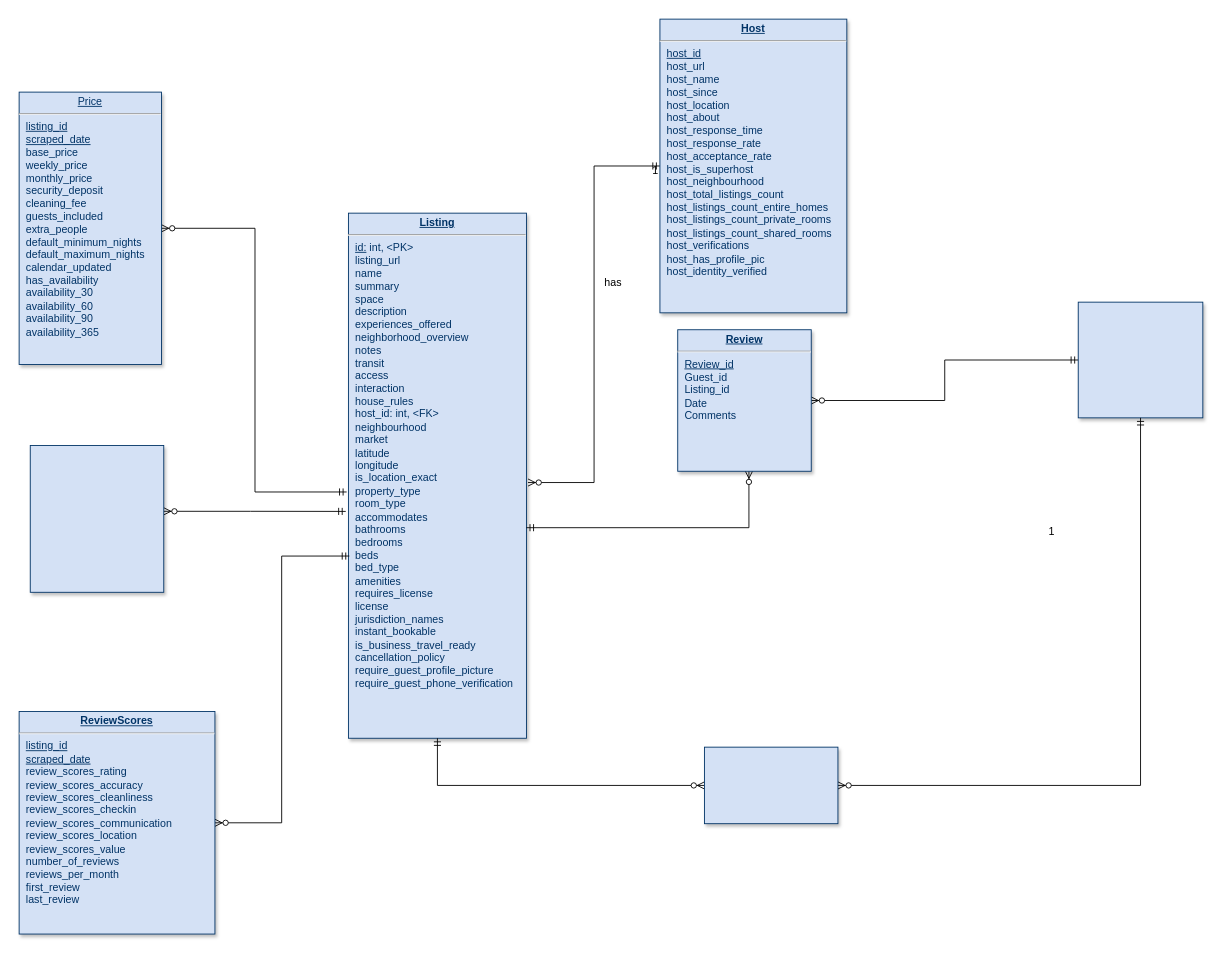
The diagram is 1224 pixels wide and 956 high, and some of its shapes have lost their labels. The shapes that lost their labels are listed below. From the top down, each one's centre as x and y in pixels, then its label:
At (1141,361): "Guest Guest_id Name".
At (97,520): "Calendar listing_id scraped_date available price minimum_nights maximum_nights".
At (771,786): "Reservation(no data) No access to data".
